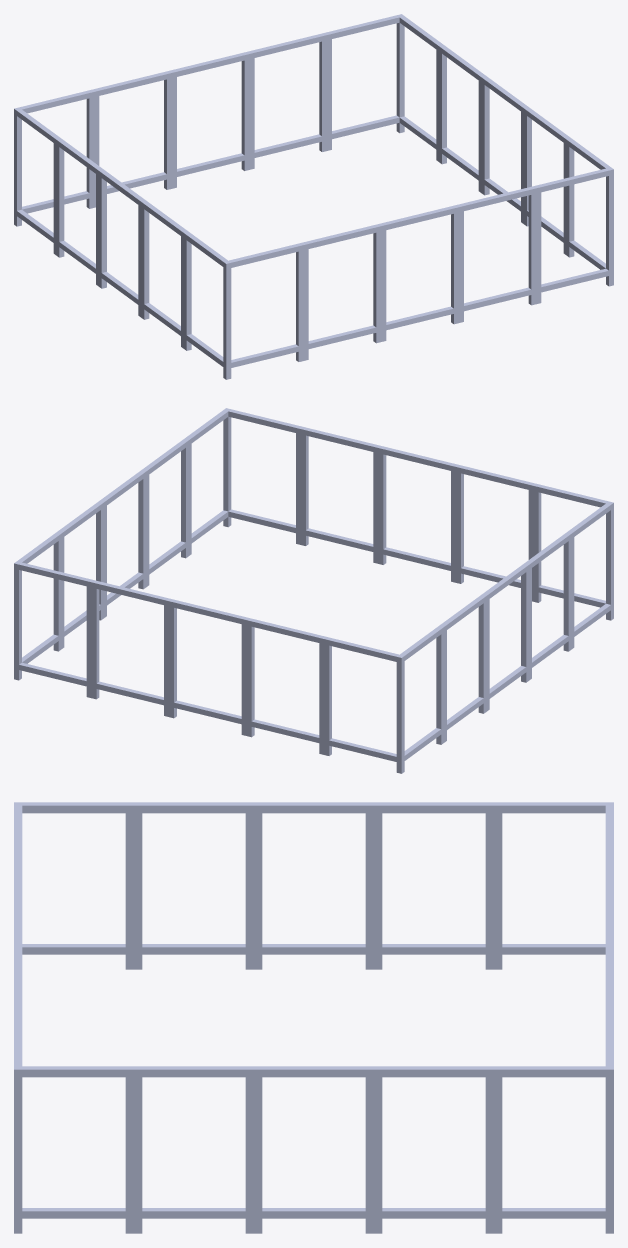
Rendered from kuka_assembly_kuka_assembly_tn__Part1_f5_tn__Part1_f5_Mesh.obj.
3 views of the same model, one above another, from view 1: azimuth 30°, elevation 25°; view 2: azimuth 150°, elevation 25°; view 3: azimuth 270°, elevation 25° (orthographic). The views are drawn at different scales.
Visible parts, largest first — view 1: Mesh; view 2: Mesh; view 3: Mesh.
Part boxes in pixels (x1,y1,x2,y2): Mesh: (14,14,613,379); Mesh: (14,408,613,773); Mesh: (14,802,613,1233).
Bounding box in the file's own units: 7.7 × 2.2 × 7.3.
